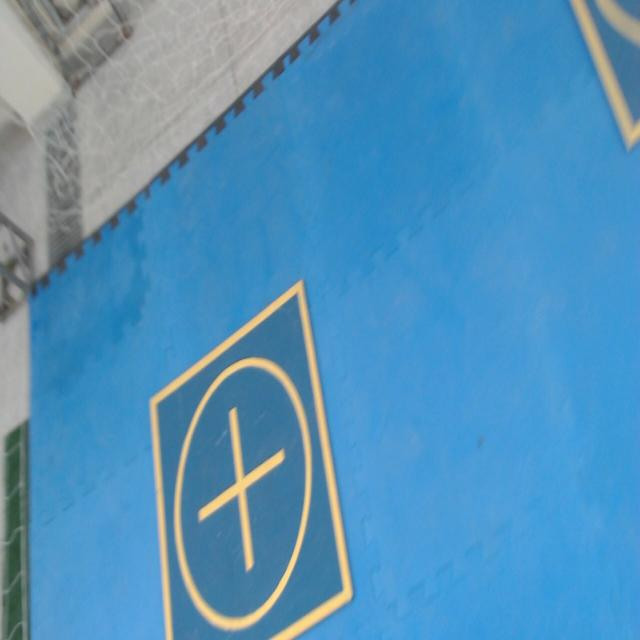base_pouso: (149, 276, 354, 639), (569, 1, 640, 155)
